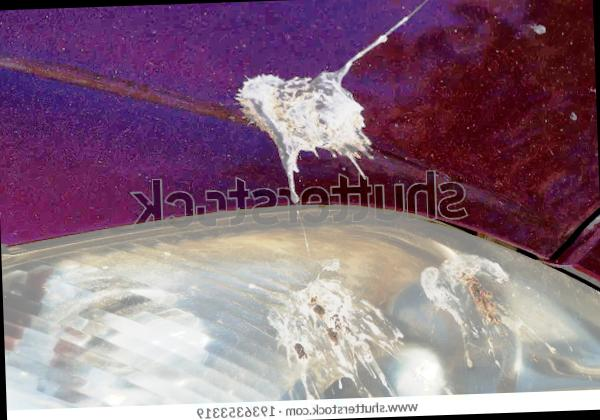Bird Poop: (237, 5, 421, 202), (272, 278, 402, 399), (421, 254, 539, 378)
